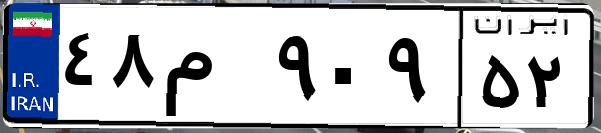0: (330, 28, 385, 110)
2: (525, 38, 570, 115)
4: (57, 26, 110, 100)
5: (475, 38, 525, 113)
8: (110, 28, 158, 98)
9: (270, 28, 330, 110), (385, 28, 445, 110)
م: (158, 20, 270, 120)
